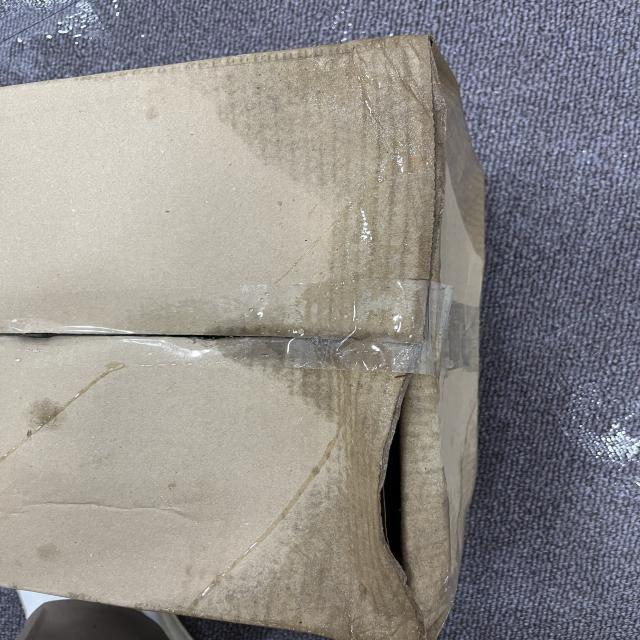hole: (373, 389, 442, 586)
wet: (183, 37, 462, 309)
